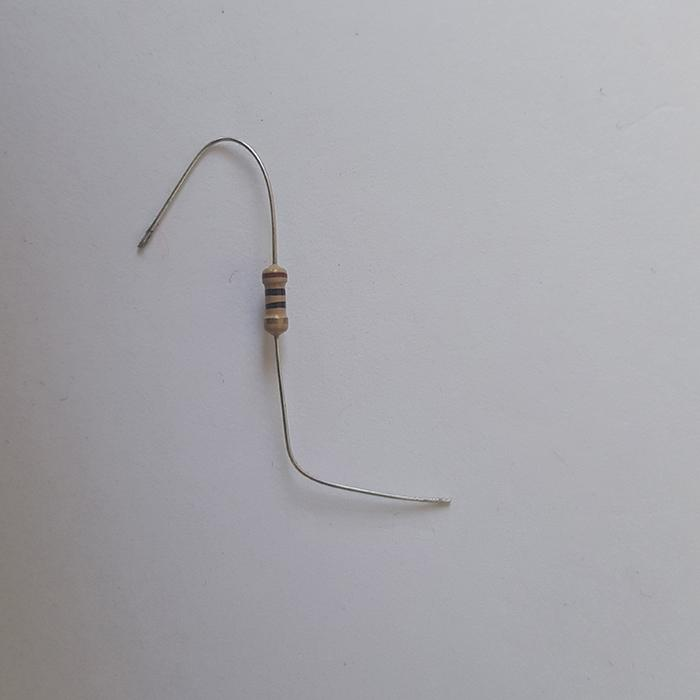resistor: (260, 263, 289, 337)
